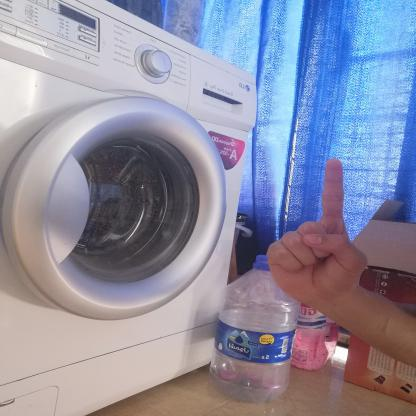BAA: (260, 150, 383, 321)
